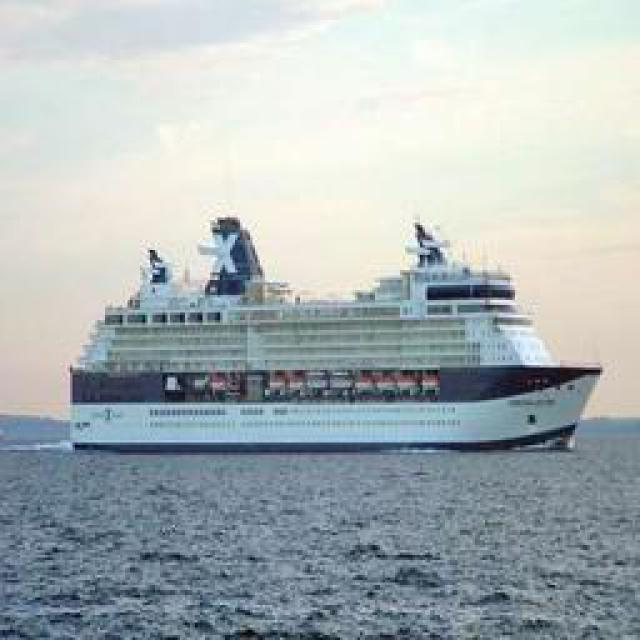Ship: (60, 208, 603, 453)
